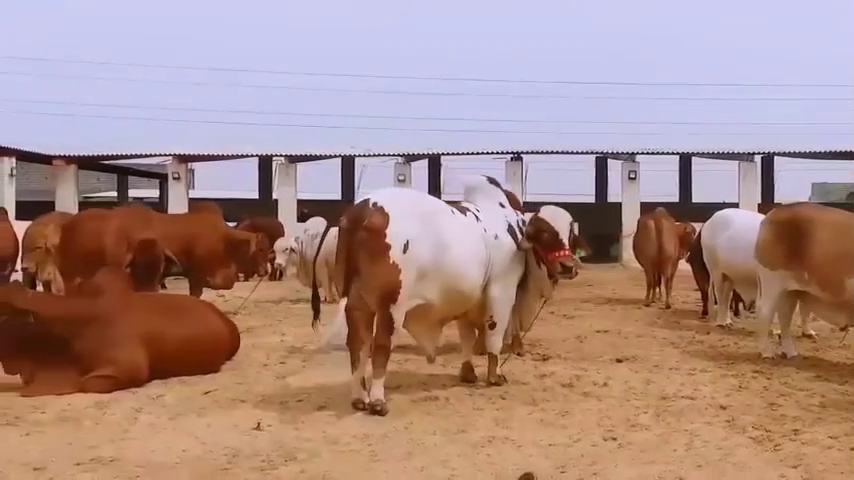bo: (279, 153, 590, 427), (3, 259, 246, 401), (688, 195, 823, 341), (747, 197, 852, 367), (57, 195, 182, 302), (257, 200, 352, 310), (616, 187, 693, 313), (16, 178, 87, 297), (228, 197, 290, 293)
